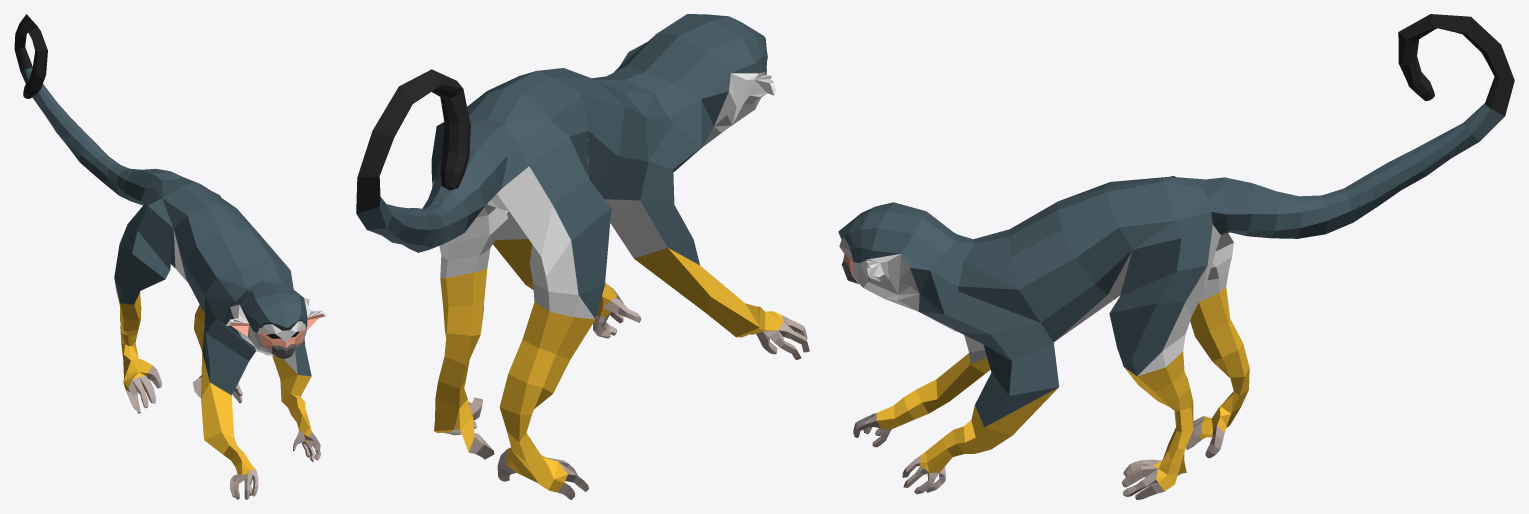
The model's file is animal_015.fbx.
3 renders of one model, left to right at view 1: azimuth 30°, elevation 25°; view 2: azimuth 150°, elevation 25°; view 3: azimuth 270°, elevation 25°, orthographic. The views are drawn at different scales.
Parts seen in each view (by area): view 1: animal.015; view 2: animal.015; view 3: animal.015.
Part boxes in pixels (x1,y1,x2,y2): animal.015: (14,14,327,499); animal.015: (356,14,809,499); animal.015: (838,14,1514,499).
Bounding box in the file's own units: 83.61 × 203 × 289.
1 material, 1 textured.
